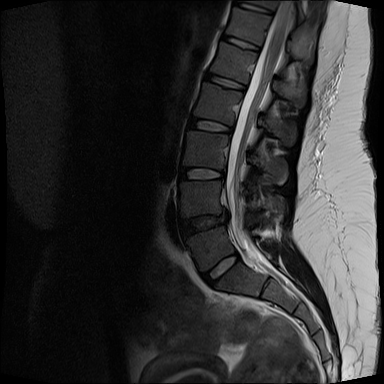Lumbar Disc Bulge (LDB): (176, 206, 234, 244)
Normal IVD: (194, 253, 244, 295), (184, 113, 236, 137), (199, 70, 248, 95), (216, 31, 264, 56), (173, 165, 228, 183)
Spinal Stenosis (SS): (217, 205, 234, 232)
